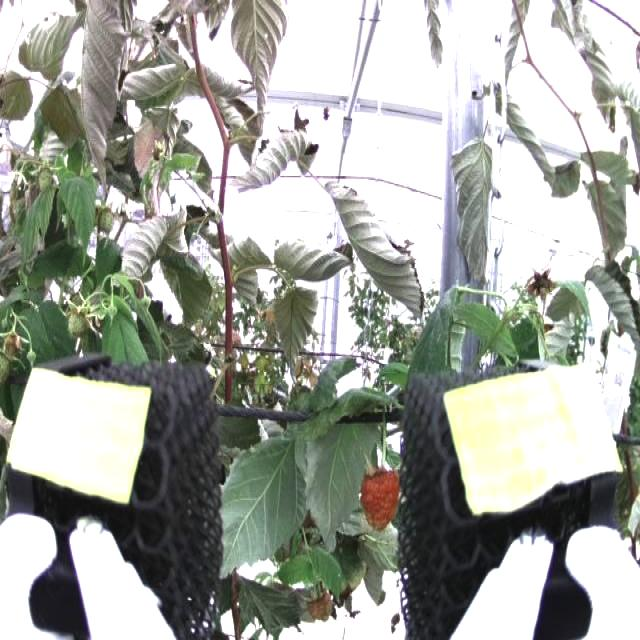Riped berries: (356, 461, 404, 535)
